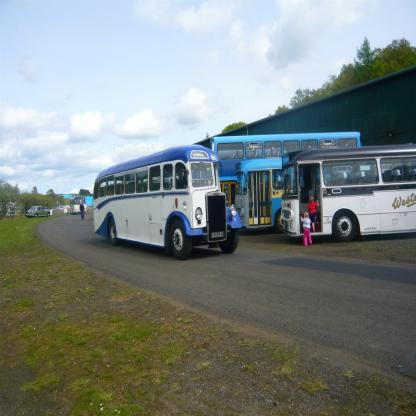Bus: (94, 147, 246, 260), (210, 134, 362, 233), (233, 157, 416, 234), (281, 144, 416, 240), (70, 195, 86, 212)
